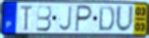B: (36, 4, 53, 32)
D: (98, 5, 116, 32)
J: (58, 5, 73, 32)
P: (74, 4, 93, 33)
T: (19, 5, 34, 33)
U: (115, 4, 135, 34)
